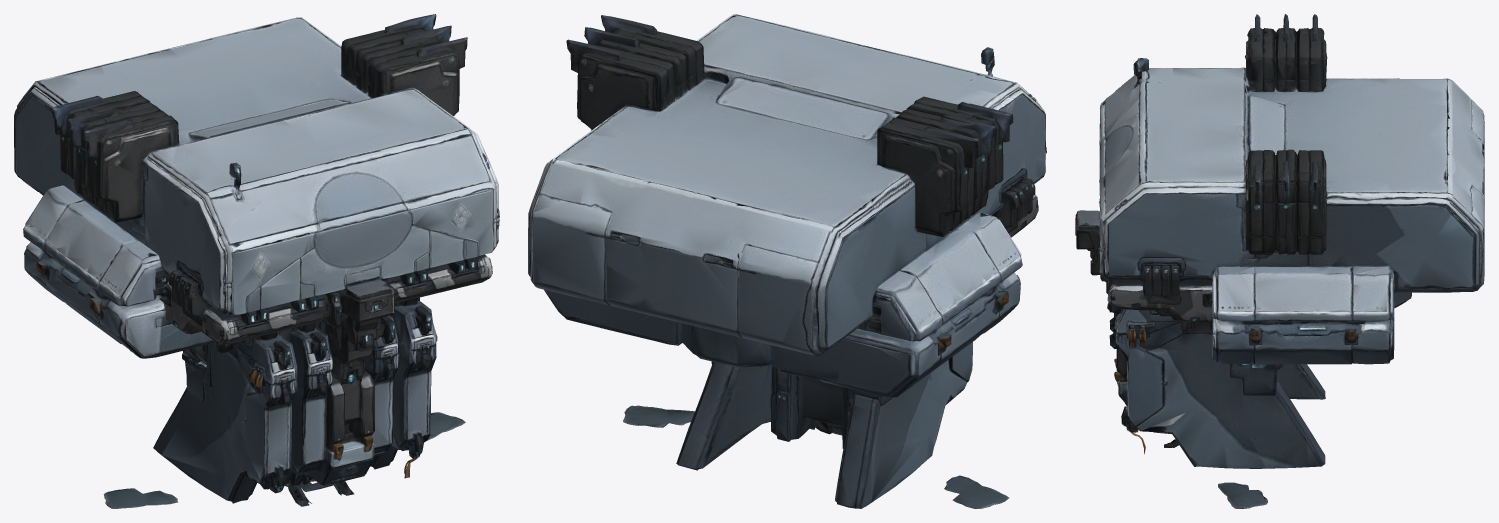
File: HL_FAC_Garage_ArticulatedLegs.glb
3 renders of one model, left to right at view 1: azimuth 30°, elevation 25°; view 2: azimuth 150°, elevation 25°; view 3: azimuth 270°, elevation 25°, orthographic. The views are drawn at different scales.
Parts seen in each view (by area): view 1: body; view 2: body; view 3: body.
Part boxes in pixels (x1=…): body: x1=14, y1=14, x2=499, y2=508; body: x1=528, y1=14, x2=1046, y2=508; body: x1=1075, y1=14, x2=1484, y2=508.
Bounding box in the file's own units: 0.9557 × 0.896 × 0.9815.
1 material, 1 textured.
